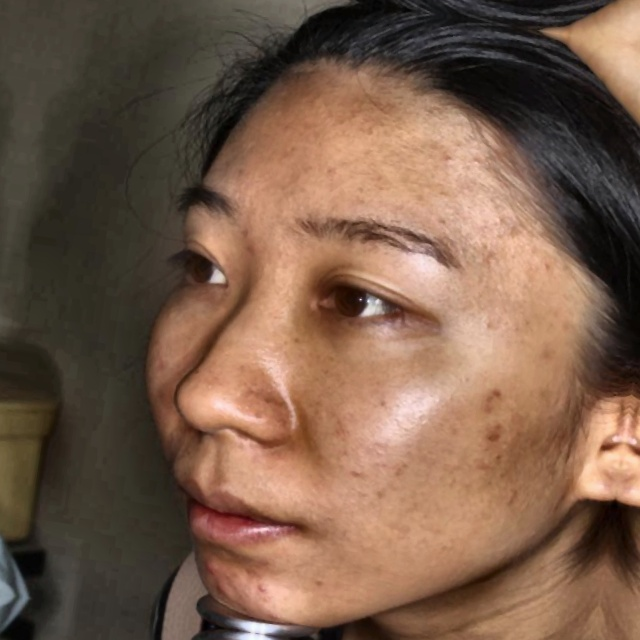comedone: (466, 377, 509, 422), (466, 423, 512, 453)
